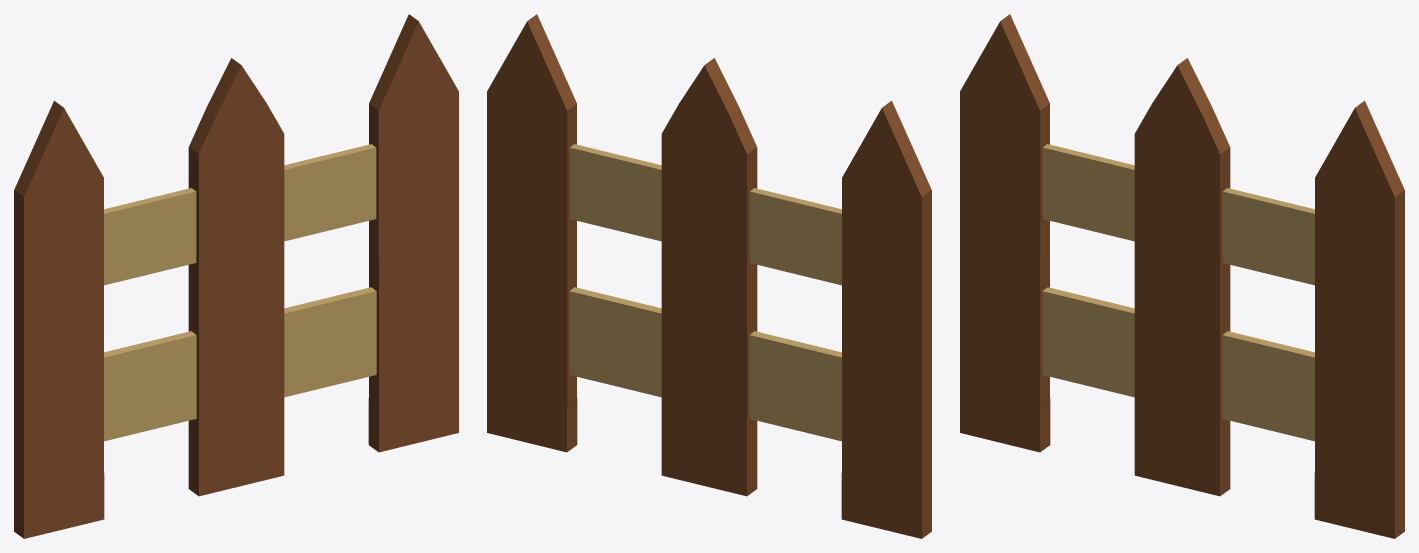
The model's file is fence.fbx.
3 renders of one model, left to right at view 1: azimuth 30°, elevation 25°; view 2: azimuth 150°, elevation 25°; view 3: azimuth 330°, elevation 25°, orthographic.
Parts seen in each view (by area): view 1: Cube; view 2: Cube; view 3: Cube.
Part boxes in pixels (x1,y1,x2,y2): Cube: [14, 14, 458, 538]; Cube: [487, 14, 931, 538]; Cube: [960, 14, 1404, 538].
Bounding box in the file's own units: 466 × 432 × 18.77.
